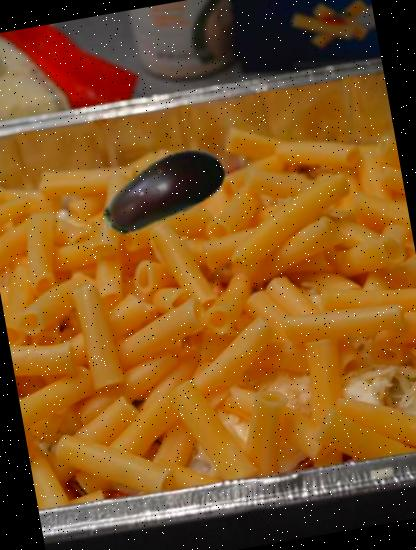Eggplant: (82, 111, 240, 269)
